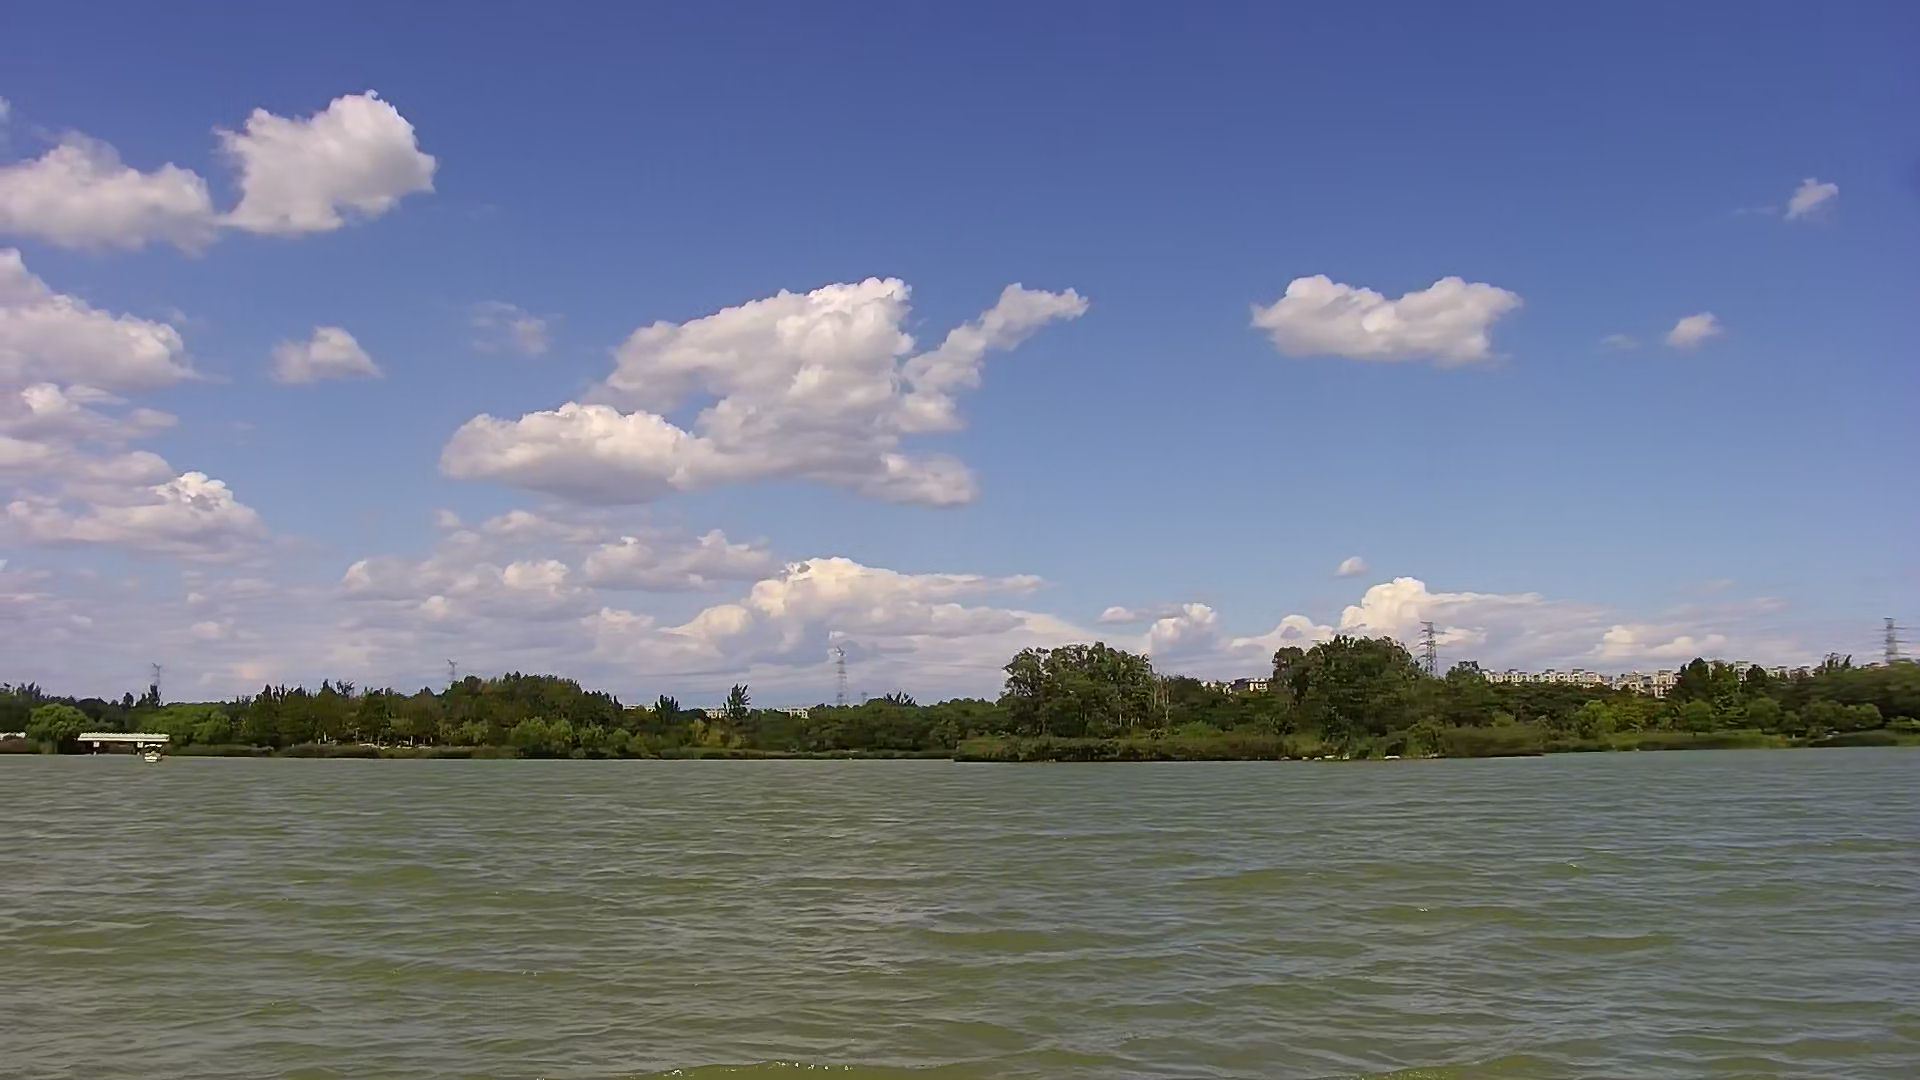boat: (141, 738, 169, 766)
bridge: (75, 720, 167, 756)
